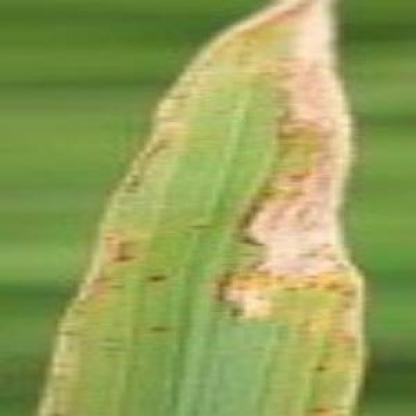Blight: (249, 1, 380, 330)
